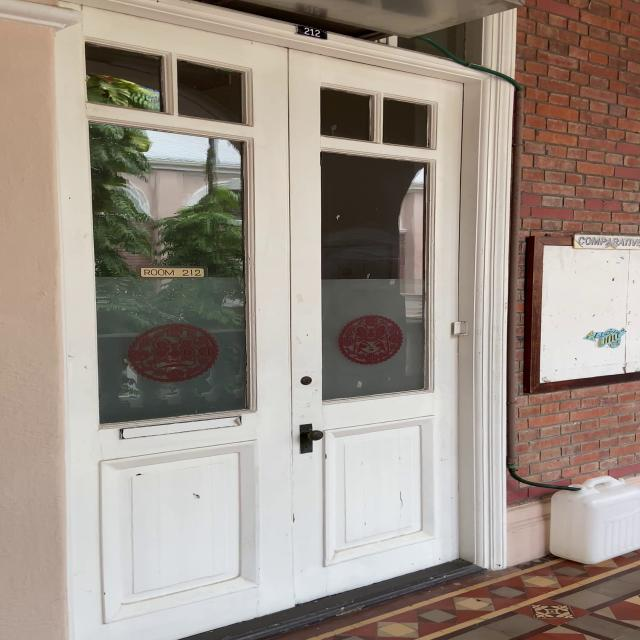room212: (288, 22, 333, 42)
room212Window: (140, 262, 215, 282)
